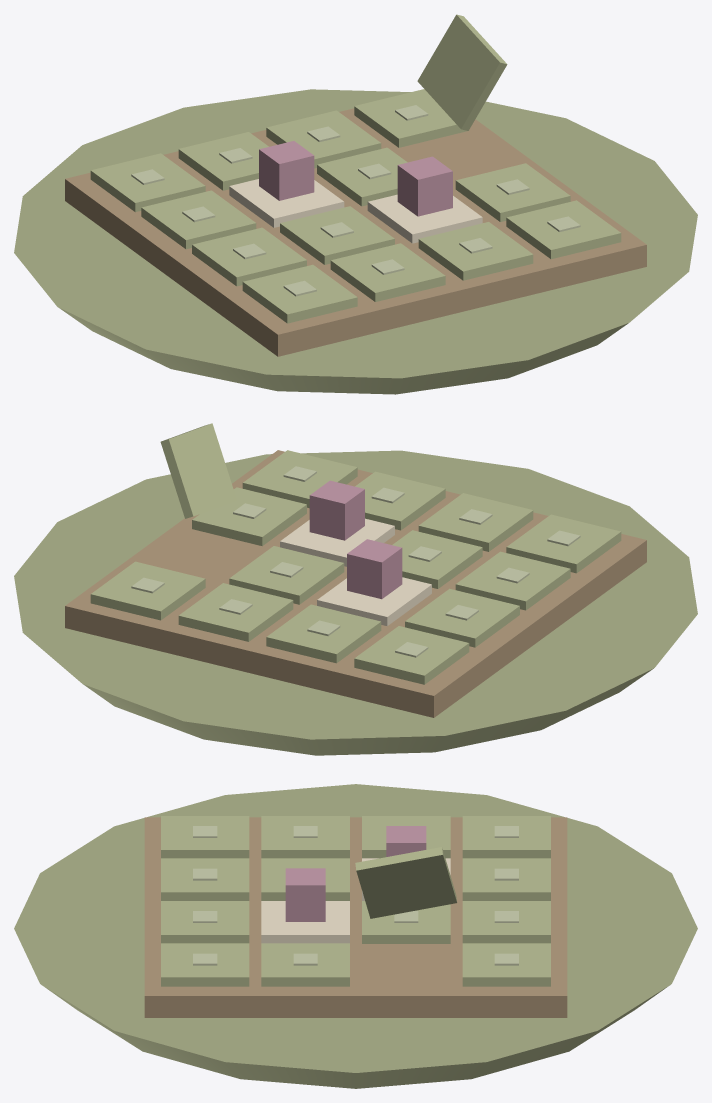
The model's file is party_mg27_pair_cards.glb.
The picture shows the model from 3 angles, top to bottom: view 1: azimuth 30°, elevation 25°; view 2: azimuth 150°, elevation 25°; view 3: azimuth 270°, elevation 25°; orthographic projection.
Visible parts, largest first — view 1: _MeshInstance3D_103, _MeshInstance3D_104, _MeshInstance3D_135, _MeshInstance3D_129, _MeshInstance3D_127, _MeshInstance3D_131, _MeshInstance3D_133, _MeshInstance3D_125, _MeshInstance3D_105, _MeshInstance3D_113, _MeshInstance3D_121, _MeshInstance3D_119 (+8 smaller); view 2: _MeshInstance3D_103, _MeshInstance3D_104, _MeshInstance3D_135, _MeshInstance3D_111, _MeshInstance3D_107, _MeshInstance3D_109, _MeshInstance3D_105, _MeshInstance3D_127, _MeshInstance3D_129, _MeshInstance3D_119, _MeshInstance3D_117, _MeshInstance3D_113 (+8 smaller); view 3: _MeshInstance3D_103, _MeshInstance3D_104, _MeshInstance3D_135, _MeshInstance3D_125, _MeshInstance3D_111, _MeshInstance3D_133, _MeshInstance3D_107, _MeshInstance3D_129, _MeshInstance3D_119, _MeshInstance3D_105, _MeshInstance3D_109, _MeshInstance3D_127 (+7 smaller).
Boxes of the visible parts, <box> form: _MeshInstance3D_103: <box>14,89,697,394</box>; _MeshInstance3D_104: <box>65,108,646,356</box>; _MeshInstance3D_135: <box>417,14,507,130</box>; _MeshInstance3D_129: <box>330,243,445,301</box>; _MeshInstance3D_127: <box>242,264,357,323</box>; _MeshInstance3D_131: <box>418,222,533,280</box>; _MeshInstance3D_133: <box>506,200,621,259</box>; _MeshInstance3D_125: <box>455,163,570,221</box>; _MeshInstance3D_105: <box>90,153,205,212</box>; _MeshInstance3D_113: <box>141,190,256,249</box>; _MeshInstance3D_121: <box>280,206,394,264</box>; _MeshInstance3D_119: <box>192,227,306,286</box>; _MeshInstance3D_103: <box>14,450,697,755</box>; _MeshInstance3D_104: <box>65,450,646,717</box>; _MeshInstance3D_135: <box>160,423,236,518</box>; _MeshInstance3D_111: <box>90,561,205,620</box>; _MeshInstance3D_107: <box>266,604,381,663</box>; _MeshInstance3D_109: <box>178,583,293,641</box>; _MeshInstance3D_105: <box>354,626,469,684</box>; _MeshInstance3D_127: <box>506,514,621,573</box>; _MeshInstance3D_129: <box>418,493,533,551</box>; _MeshInstance3D_119: <box>455,551,570,610</box>; _MeshInstance3D_117: <box>229,546,344,604</box>; _MeshInstance3D_113: <box>405,588,519,647</box>; _MeshInstance3D_103: <box>14,784,697,1088</box>; _MeshInstance3D_104: <box>144,817,567,1017</box>; _MeshInstance3D_135: <box>355,847,457,918</box>; _MeshInstance3D_125: <box>261,943,349,986</box>; _MeshInstance3D_111: <box>462,943,550,986</box>; _MeshInstance3D_133: <box>161,943,249,986</box>; _MeshInstance3D_107: <box>462,858,550,900</box>; _MeshInstance3D_129: <box>161,858,249,900</box>; _MeshInstance3D_119: <box>261,816,349,858</box>; _MeshInstance3D_105: <box>462,816,550,858</box>; _MeshInstance3D_109: <box>462,901,550,943</box>; _MeshInstance3D_127: <box>161,816,249,858</box>.
Bounding box in the file's own units: 3.4 × 1.01 × 3.4.
